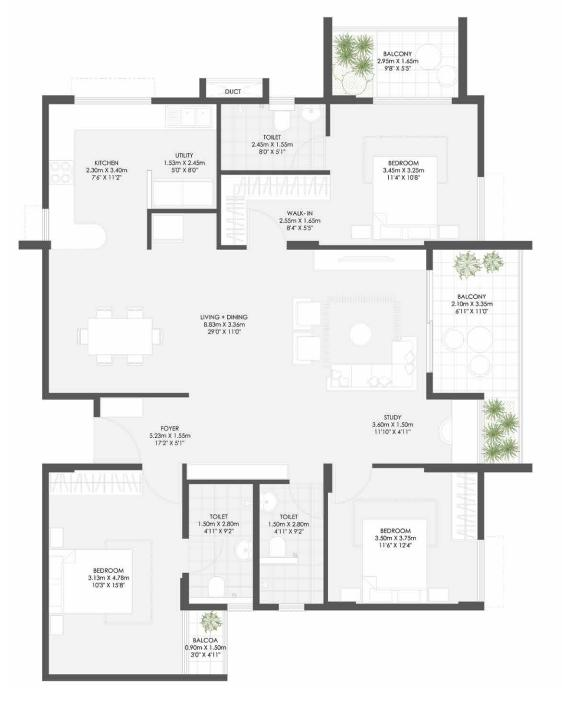Balcony: (430, 252, 518, 395), (329, 29, 464, 97), (480, 398, 522, 463)
Bedroom: (47, 473, 185, 675), (327, 102, 482, 244), (325, 469, 481, 608)
Dining Room: (47, 251, 192, 395)
Foyer: (97, 402, 333, 467)
Kitchen: (45, 103, 149, 250)
Living Room: (192, 251, 429, 402)
balcoa: (187, 608, 227, 676)
duct: (206, 80, 266, 100)
fridge: (153, 216, 183, 240)
study: (337, 402, 480, 463)
toilet: (189, 482, 258, 605), (260, 481, 323, 607), (218, 102, 325, 171)
utility: (148, 111, 216, 212)
walkin: (221, 178, 325, 244)
washing-machine: (152, 177, 214, 208)
